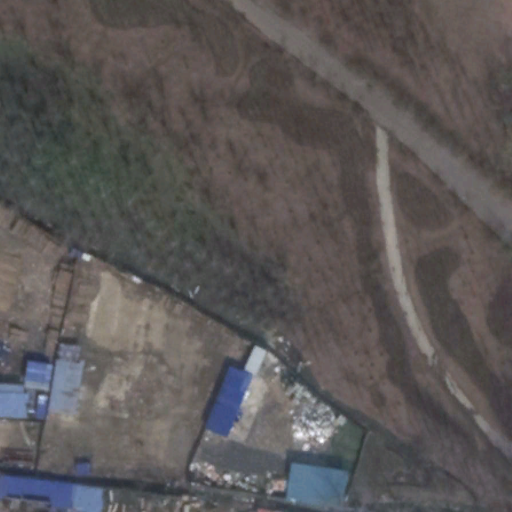msw: (291, 377, 345, 447), (192, 462, 293, 494)
